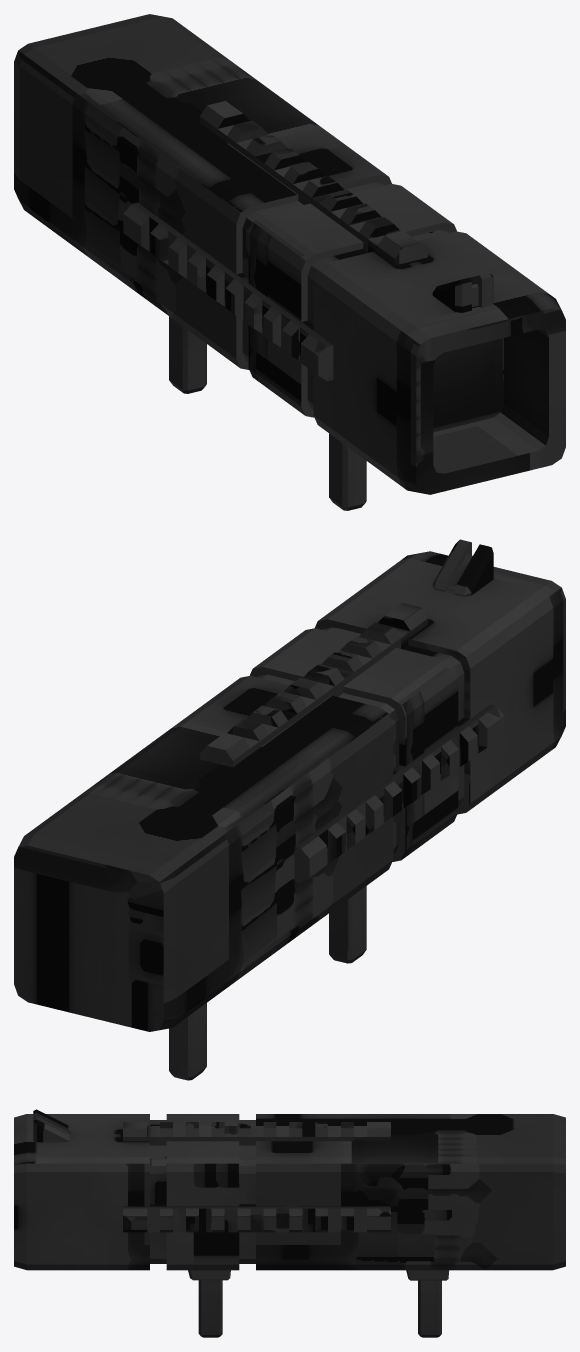
File: easy-weapons-cluster-launcher.glb
3 renders of one model, top to bottom at view 1: azimuth 30°, elevation 25°; view 2: azimuth 150°, elevation 25°; view 3: azimuth 270°, elevation 25°, orthographic. The views are drawn at different scales.
Visible parts, largest first — view 1: bomb_launcher; view 2: bomb_launcher; view 3: bomb_launcher.
Part boxes in pixels (bbox=[...]): bomb_launcher: bbox=[14, 14, 565, 510]; bomb_launcher: bbox=[14, 539, 565, 1080]; bomb_launcher: bbox=[14, 1109, 565, 1337].
Size of the model in its own units: 0.155 by 0.2553 by 0.58.
Materials: 1 (1 with a texture image).
